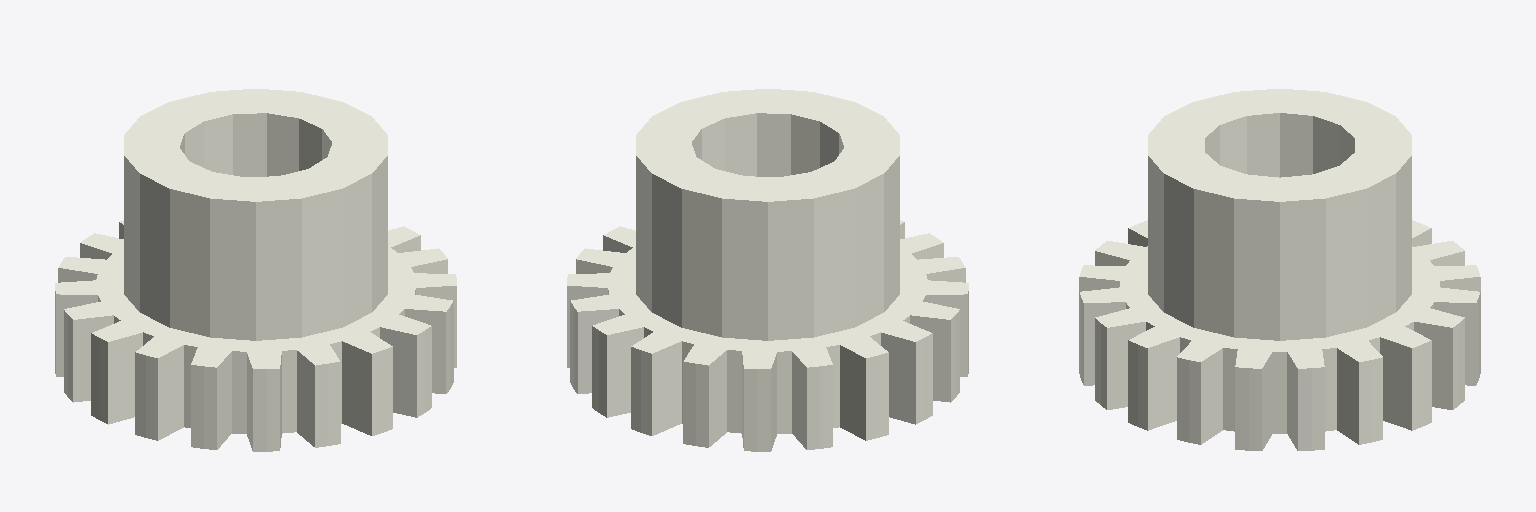
Rendered from nylon_actual_gear.obj.
3 renders of one model, left to right at view 1: azimuth 30°, elevation 25°; view 2: azimuth 150°, elevation 25°; view 3: azimuth 270°, elevation 25°, orthographic.
Visible parts, largest first — view 1: 1; view 2: 1; view 3: 1.
Boxes of the visible parts, <box> form: 1: <box>55,89,456,451</box>; 1: <box>567,89,968,451</box>; 1: <box>1079,89,1480,450</box>.
Bounding box in the file's own units: 33.2 × 20.24 × 33.2.